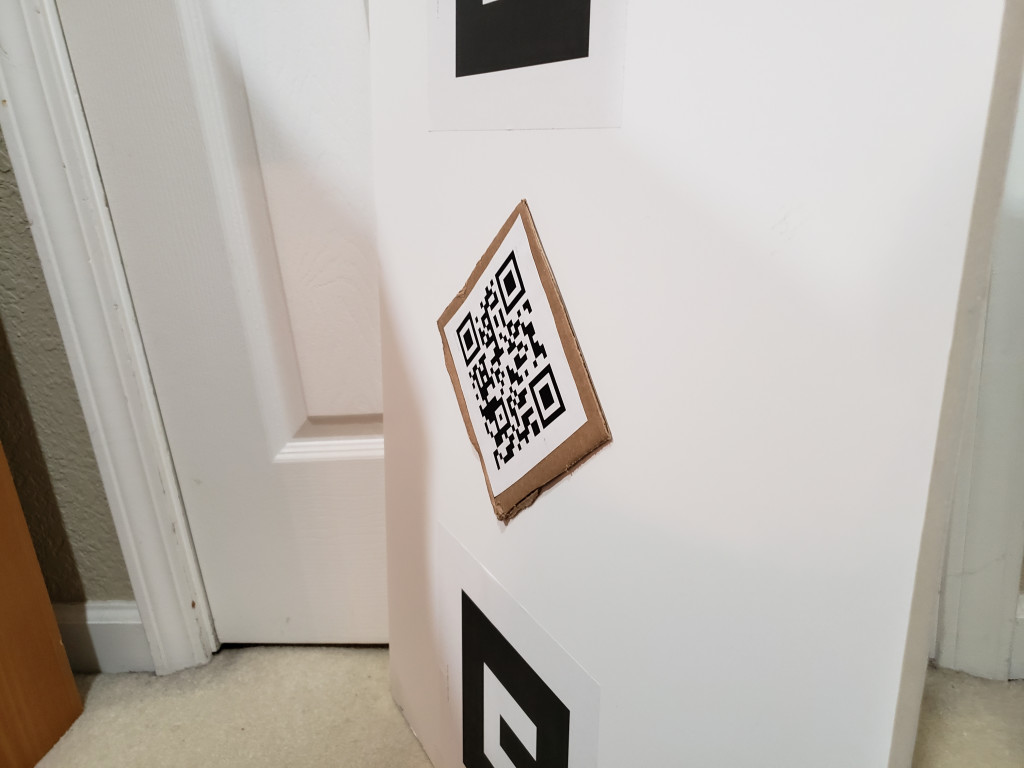QR_CODE: (443, 237, 576, 481)
